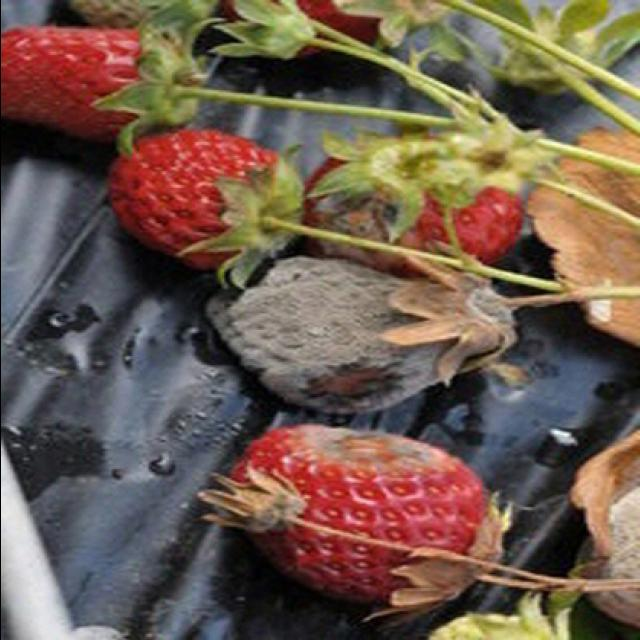Gray Mold: (203, 253, 518, 413), (290, 424, 450, 490)
